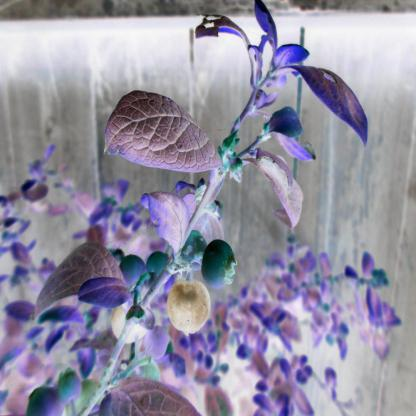blueberry leaf: (97, 81, 234, 182), (20, 239, 143, 321), (241, 137, 319, 232)
